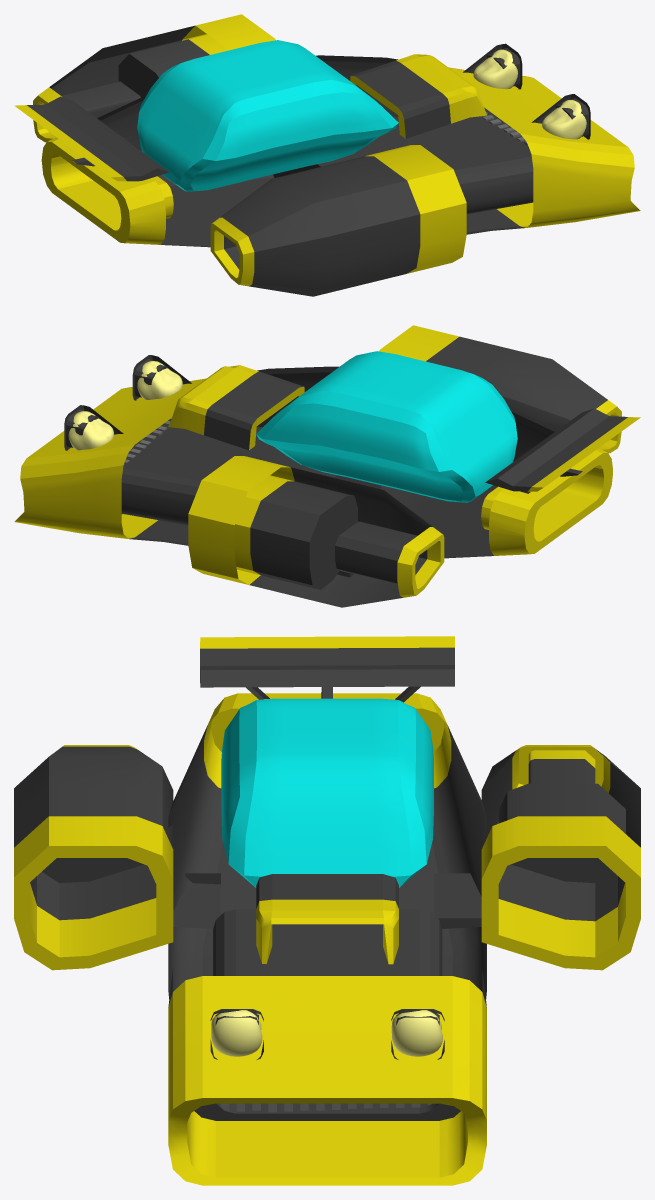
Rendered from RV_RaceShip_001.fbx.
3 views of the same model, one above another, from view 1: azimuth 30°, elevation 25°; view 2: azimuth 150°, elevation 25°; view 3: azimuth 270°, elevation 25° (orthographic). The views are drawn at different scales.
Visible parts, largest first — view 1: spoiler; view 2: spoiler; view 3: spoiler.
Part boxes in pixels (box(x1,y1,x2,y2)): spoiler: box(14, 14, 640, 296); spoiler: box(14, 325, 640, 607); spoiler: box(14, 636, 640, 1185).
Bounding box in the file's own units: 1507 × 507 × 1181.
